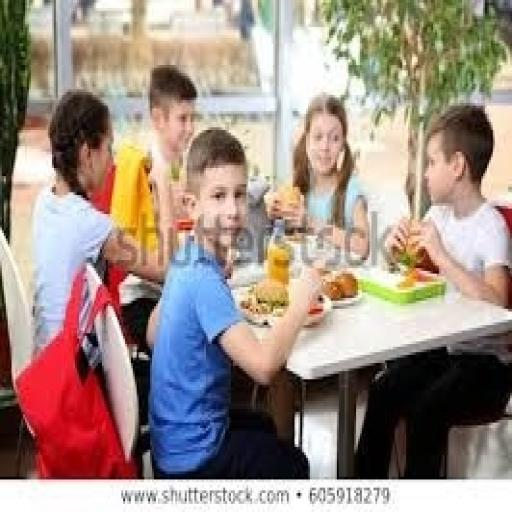eating: (25, 60, 508, 476), (144, 124, 326, 480), (352, 100, 510, 477), (27, 86, 140, 358), (268, 90, 374, 266)
